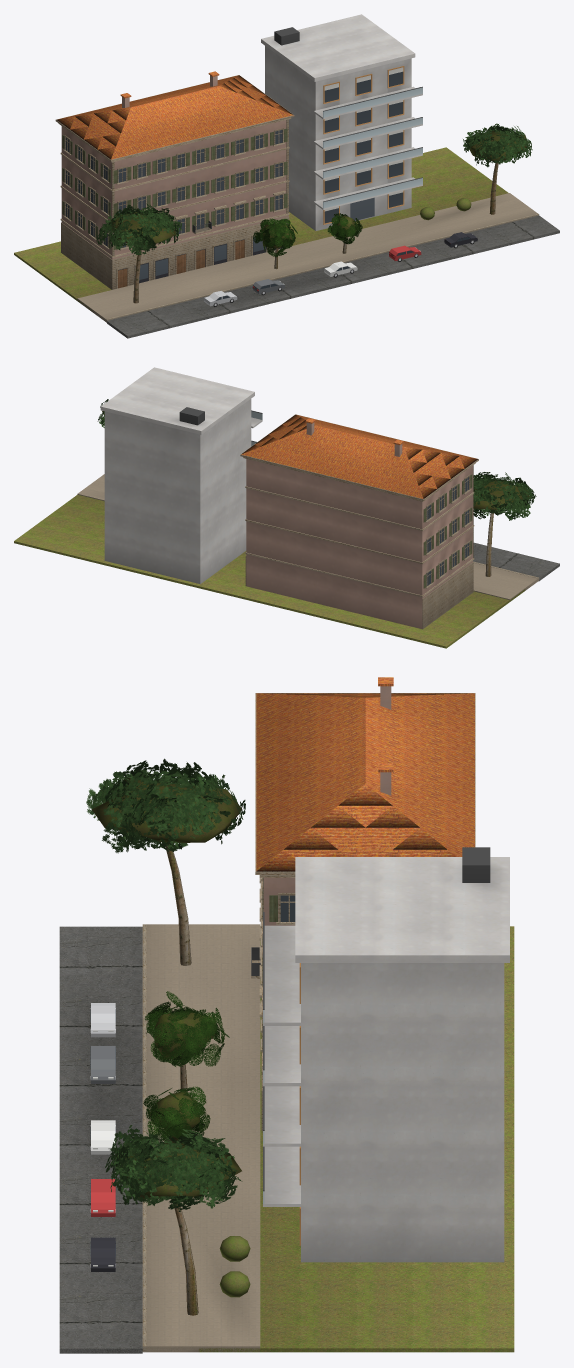
The model's file is homeStreet.gltf.
3 views of the same model, one above another, from view 1: azimuth 30°, elevation 25°; view 2: azimuth 150°, elevation 25°; view 3: azimuth 270°, elevation 25° (orthographic). The views are drawn at different scales.
Visible parts, largest first — view 1: homeStreet-white-render, homeStreet-pavement, homeStreet-plaster, homeStreet-roof-tiles, homeStreet-asphalt, homeStreet-travertine-trim, homeStreet-lawn, homeStreet-window-glass, homeStreet-pine-needles, homeStreet-rustication, homeStreet-shutters, homeStreet-railing-glass (+10 smaller); view 2: homeStreet-white-render, homeStreet-plaster, homeStreet-lawn, homeStreet-roof-tiles, homeStreet-travertine-trim, homeStreet-pine-needles, homeStreet-pavement, homeStreet-rustication, homeStreet-asphalt, homeStreet-shutters, homeStreet-window-glass, homeStreet-pine-core (+1 smaller); view 3: homeStreet-white-render, homeStreet-roof-tiles, homeStreet-pavement, homeStreet-asphalt, homeStreet-lawn, homeStreet-pine-needles, homeStreet-tree-leaves, homeStreet-car-paint, homeStreet-pine-core, homeStreet-bark, homeStreet-travertine-trim, homeStreet-tree-core (+4 smaller).
Part boxes in pixels (x1,y1,x2,y2): homeStreet-white-render: (261, 14, 422, 230); homeStreet-pavement: (77, 193, 537, 321); homeStreet-plaster: (61, 75, 288, 259); homeStreet-roof-tiles: (56, 71, 293, 159); homeStreet-asphalt: (107, 215, 559, 338); homeStreet-travertine-trim: (55, 75, 294, 288); homeStreet-lawn: (14, 147, 508, 311); homeStreet-window-glass: (65, 71, 403, 279); homeStreet-pine-needles: (96, 123, 532, 255); homeStreet-rustication: (61, 216, 289, 289); homeStreet-shutters: (62, 128, 287, 249); homeStreet-railing-glass: (323, 87, 422, 208); homeStreet-white-render: (100, 367, 262, 584); homeStreet-plaster: (246, 422, 472, 628); homeStreet-lawn: (14, 494, 525, 648); homeStreet-roof-tiles: (241, 414, 477, 498); homeStreet-travertine-trim: (240, 414, 478, 597); homeStreet-pine-needles: (97, 399, 536, 520); homeStreet-pavement: (77, 474, 538, 599); homeStreet-rustication: (245, 556, 473, 629); homeStreet-asphalt: (473, 542, 559, 581); homeStreet-shutters: (423, 474, 472, 588); homeStreet-window-glass: (427, 477, 468, 585); homeStreet-pine-core: (102, 411, 529, 509); homeStreet-white-render: (263, 857, 509, 1262); homeStreet-roof-tiles: (256, 677, 474, 871); homeStreet-pavement: (146, 924, 260, 1352); homeStreet-asphalt: (59, 926, 142, 1353); homeStreet-lawn: (199, 926, 514, 1352); homeStreet-pine-needles: (86, 758, 245, 1211); homeStreet-tree-leaves: (143, 991, 229, 1141); homeStreet-car-paint: (90, 1003, 115, 1271); homeStreet-pine-core: (92, 777, 242, 1198); homeStreet-bark: (165, 844, 198, 1315); homeStreet-travertine-trim: (251, 693, 475, 1131); homeStreet-tree-core: (148, 1012, 215, 1128).
Size of the model in its own units: 71.2 by 26.16 by 32.4.
30 materials, 17 textured.
